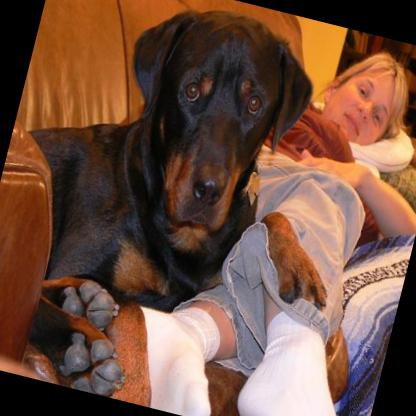Rottweiler: (0, 0, 391, 416)
